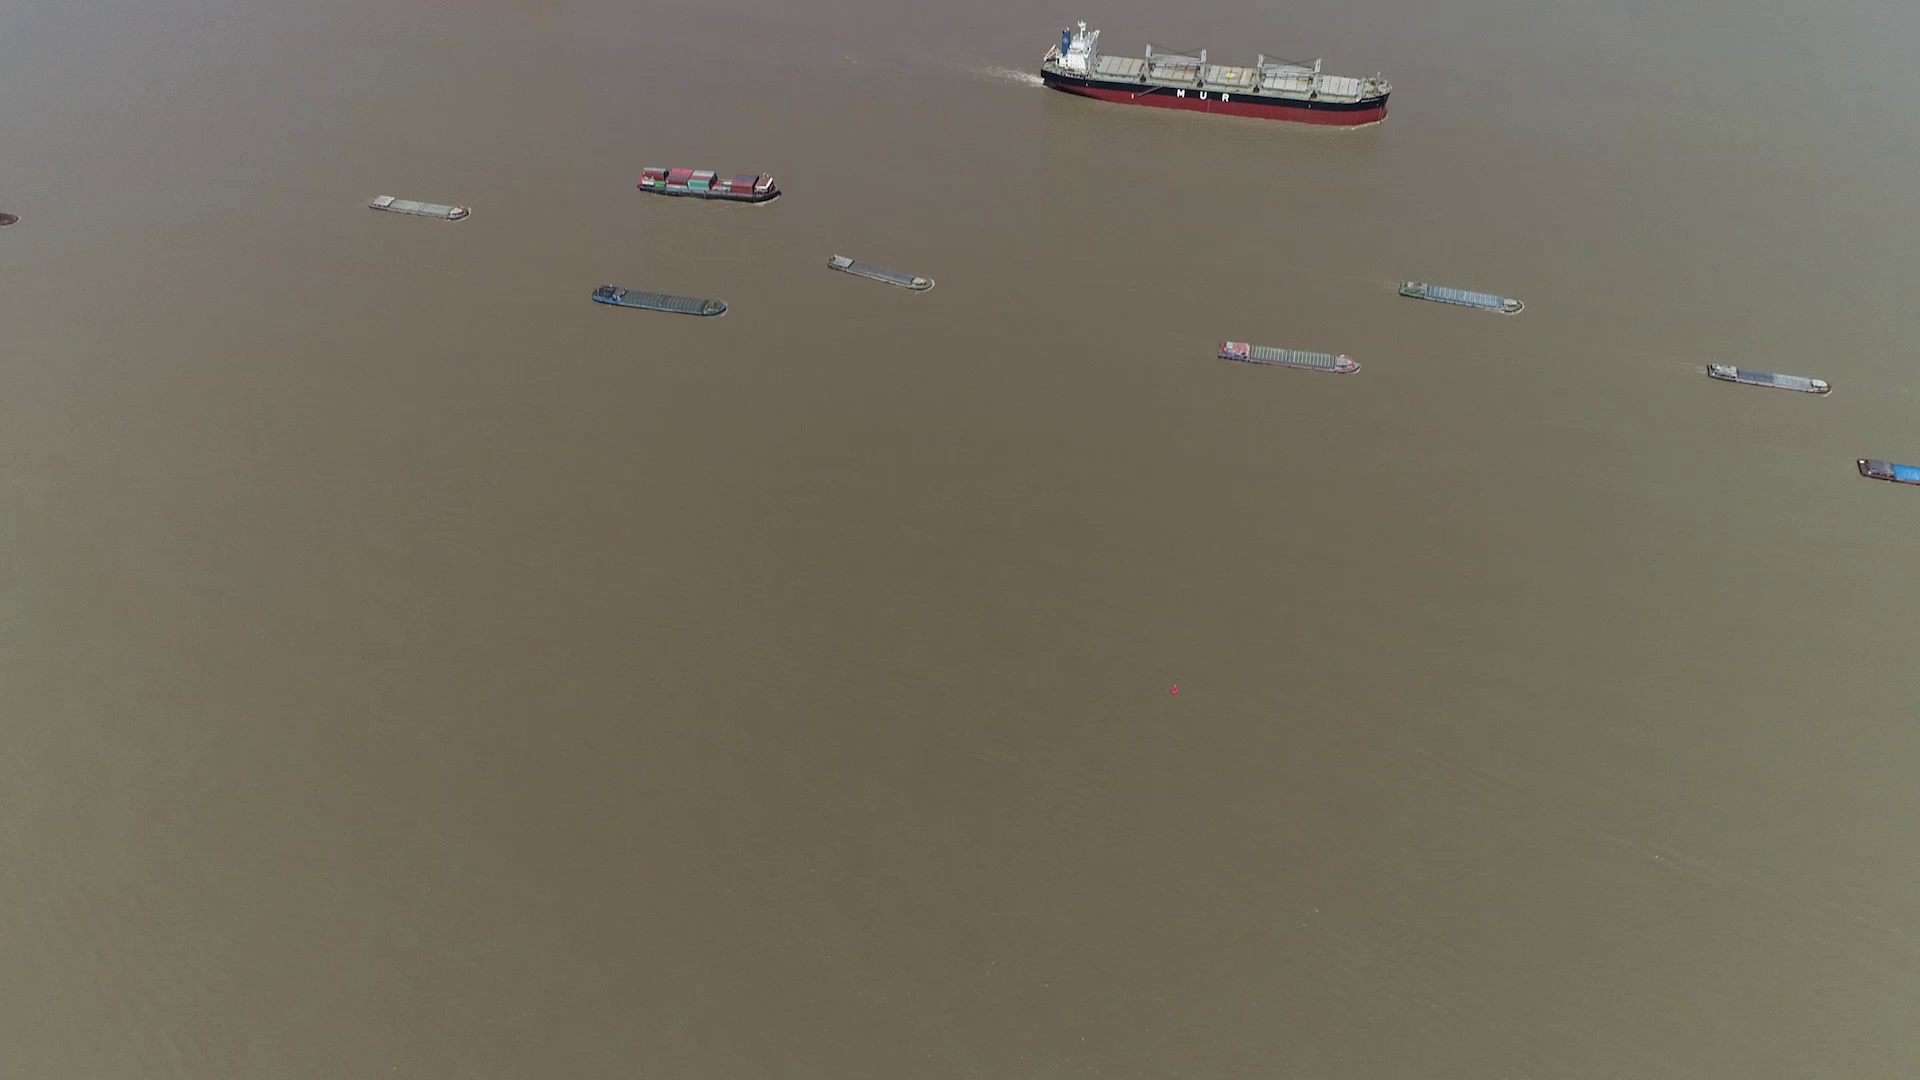ship: (1039, 22, 1389, 125), (634, 164, 785, 200), (589, 284, 728, 319), (1218, 339, 1358, 373), (1398, 280, 1524, 313), (1704, 360, 1833, 392), (828, 255, 936, 291), (371, 194, 472, 219), (1855, 455, 1919, 489)
